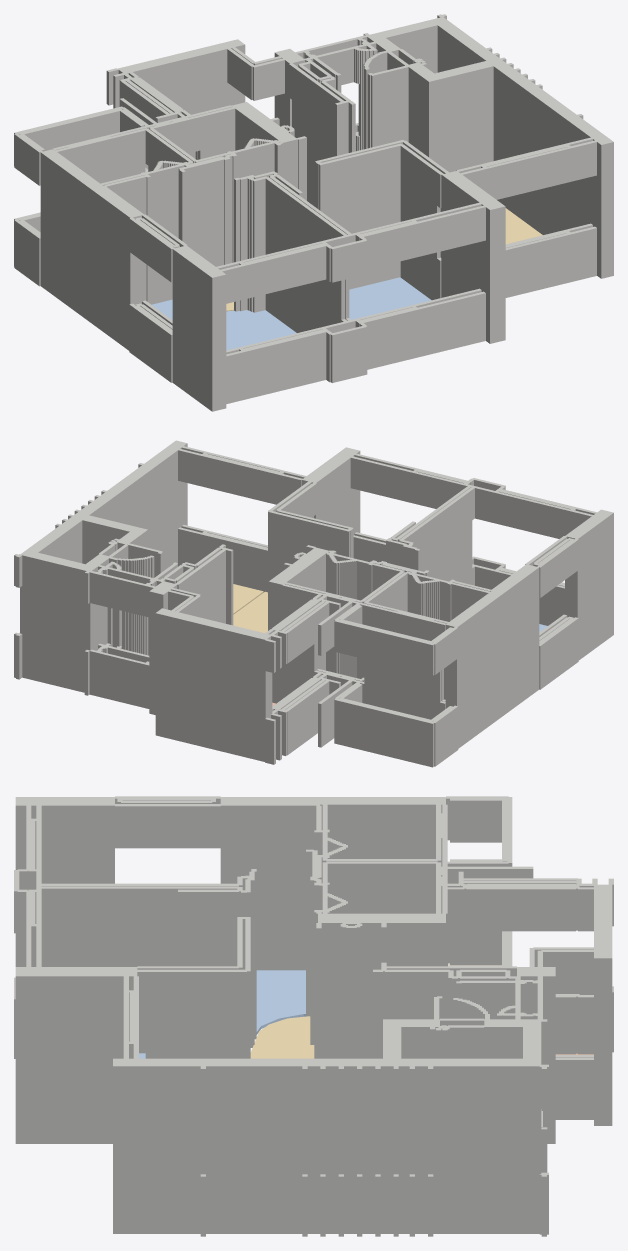
3 views of the same model, one above another, from view 1: azimuth 30°, elevation 25°; view 2: azimuth 150°, elevation 25°; view 3: azimuth 270°, elevation 25° (orthographic). The views are drawn at different scales.
Parts seen in each view (by area): view 1: walls, room:bedroom:0, room:bedroom:1, room:living:3; view 2: walls, room:living:2, room:living:3; view 3: walls, room:bedroom:0, room:living:2.
Part boxes in pixels (<box>): walls: <box>14,14,613,411</box>; room:bedroom:0: <box>152,299,296,350</box>; room:bedroom:1: <box>349,277,431,319</box>; room:living:3: <box>505,208,542,244</box>; walls: <box>14,440,613,767</box>; room:living:2: <box>233,591,267,633</box>; room:living:3: <box>233,584,263,614</box>; walls: <box>14,796,613,1236</box>; room:bedroom:0: <box>256,970,305,1034</box>; room:living:2: <box>250,1016,314,1058</box>.
Size of the model in its own units: 9.76 by 2.8 by 9.08.
